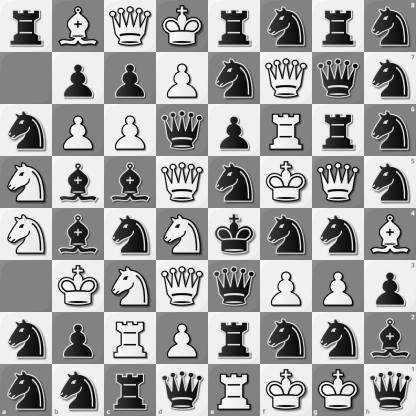B: (364, 209, 416, 260), (53, 1, 104, 52)
K: (260, 364, 312, 416), (312, 364, 364, 416), (53, 261, 104, 312), (157, 1, 208, 52), (261, 157, 312, 208)
N: (1, 157, 52, 208), (1, 209, 52, 260), (105, 261, 156, 312), (157, 209, 208, 260)
P: (53, 105, 104, 156), (105, 105, 156, 156), (157, 53, 208, 104), (157, 313, 208, 364), (261, 261, 312, 312), (313, 261, 364, 312)
Q: (105, 1, 156, 52), (157, 157, 208, 208), (157, 261, 208, 312), (261, 53, 312, 104), (313, 157, 364, 208)
R: (209, 364, 260, 416), (105, 313, 156, 364), (261, 105, 312, 156)
b: (364, 312, 416, 364), (53, 157, 104, 208), (53, 209, 104, 260), (105, 157, 156, 208)
board: (0, 0, 415, 415)
k: (209, 209, 260, 260)
n: (364, 156, 416, 209), (0, 364, 52, 416), (52, 364, 104, 416), (364, 0, 416, 52), (364, 52, 416, 104), (364, 104, 416, 156), (1, 105, 52, 156), (1, 313, 52, 364), (105, 209, 156, 260), (209, 53, 260, 104), (209, 157, 260, 208), (261, 1, 312, 52), (261, 209, 312, 260), (261, 313, 312, 364), (313, 209, 364, 260), (313, 313, 364, 364)
p: (364, 260, 416, 312), (53, 53, 104, 104), (53, 313, 104, 364), (105, 53, 156, 104), (209, 105, 260, 156)
q: (156, 364, 209, 416), (364, 364, 416, 416), (157, 105, 208, 156), (209, 261, 260, 312), (313, 53, 364, 104)
r: (104, 364, 156, 416), (1, 1, 52, 52), (209, 1, 260, 52), (209, 313, 260, 364), (313, 1, 364, 52), (313, 105, 364, 156)
